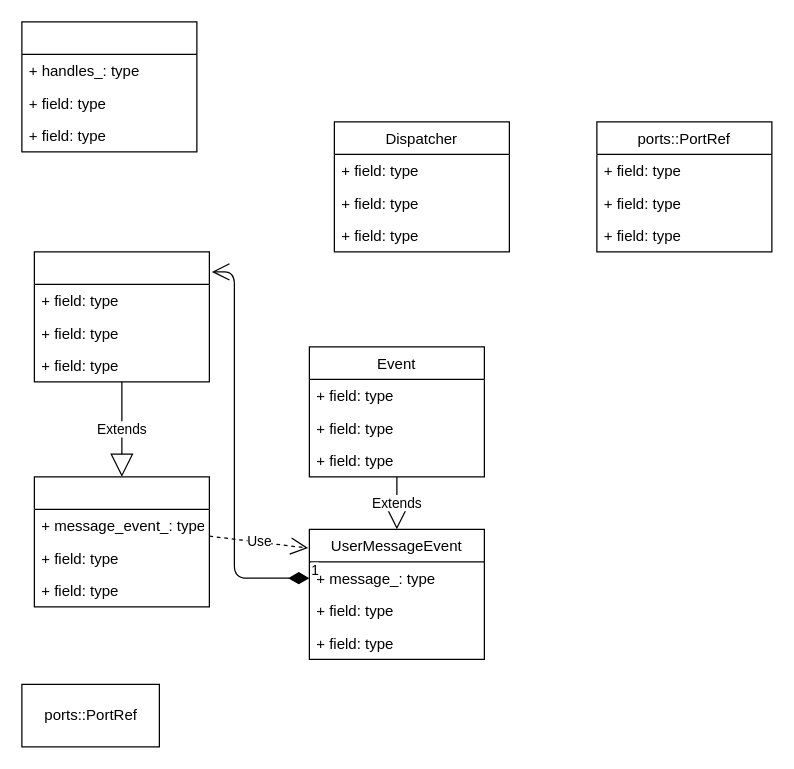
The diagram is 794 pixels wide and 769 high, and some of its shapes have lost their labels. Here are the shapes that lost their labels. From the top down, the box of each, then its label:
(21, 21, 197, 152): Core
(33, 251, 209, 382): ports::UserMessage
(33, 476, 209, 607): UserMessageImpl
